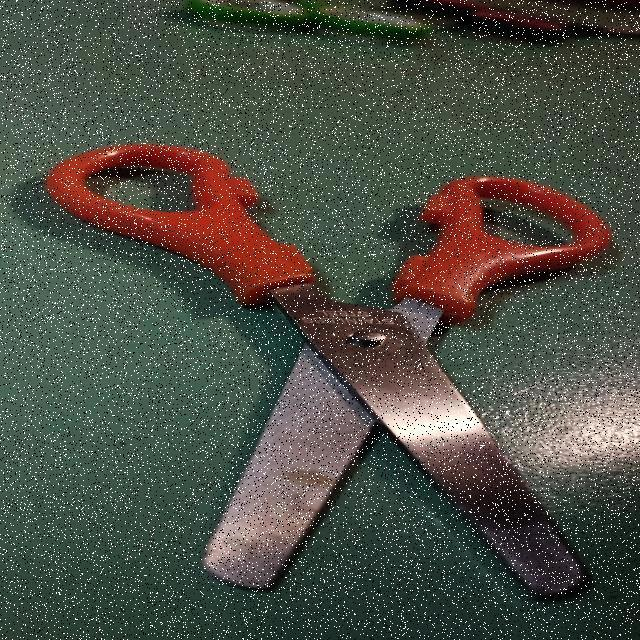scissors: (36, 135, 627, 607)
